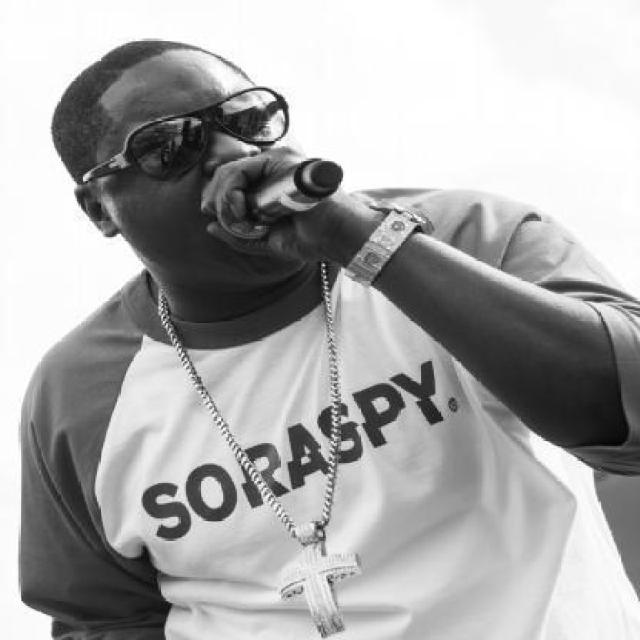glasses: (76, 68, 298, 180)
hand_noglove: (195, 146, 340, 245)
head_nohelmet: (42, 20, 200, 102)
